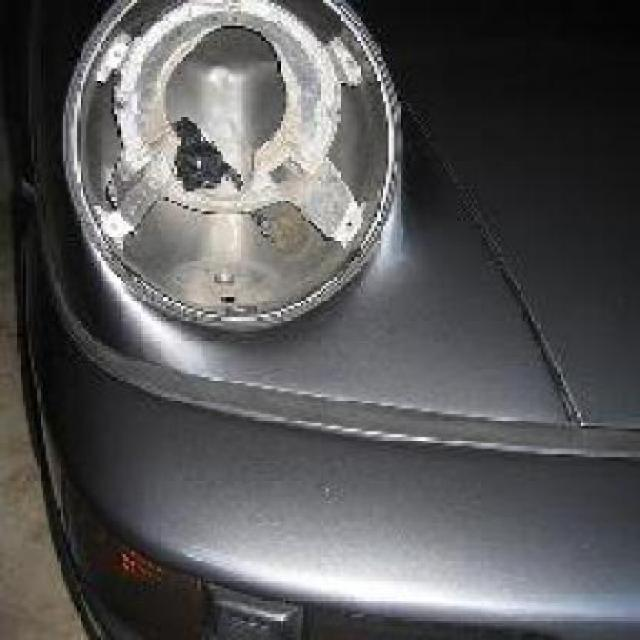damaged-head-light: (53, 0, 395, 332)
